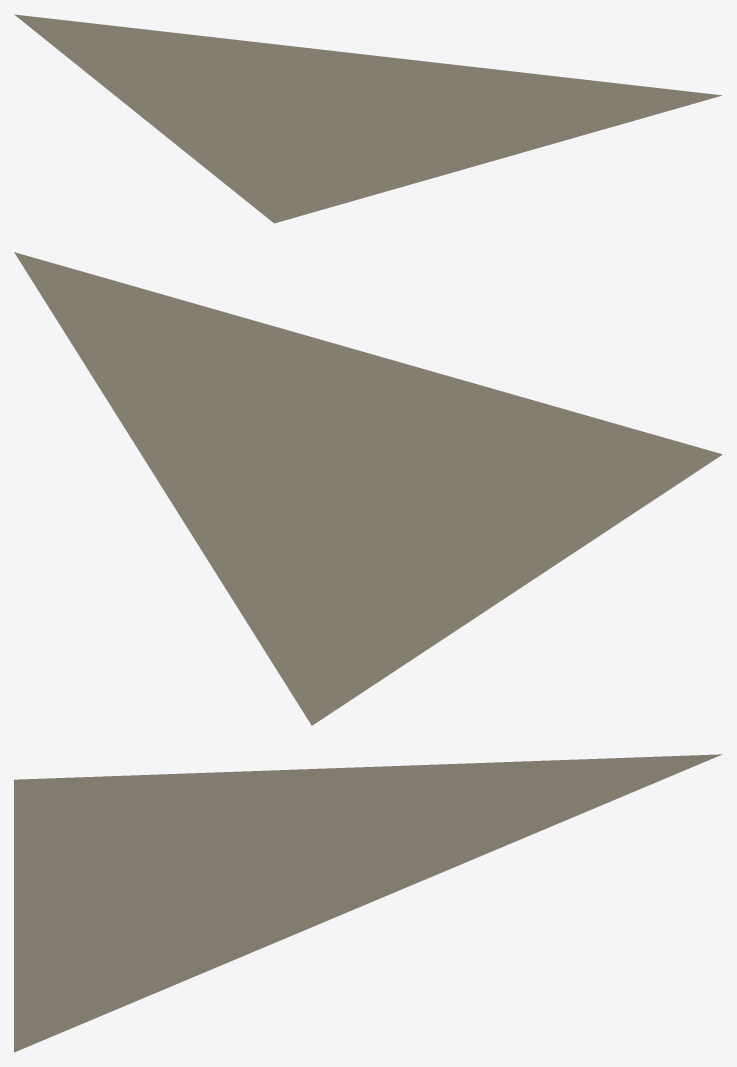
The picture shows the model from 3 angles, top to bottom: view 1: azimuth 30°, elevation 25°; view 2: azimuth 150°, elevation 25°; view 3: azimuth 270°, elevation 25°; orthographic projection. The views are drawn at different scales.
Size of the model in its own units: 0.2178 by 0.00863 by 0.2187.
Materials: 1 (1 with a texture image).
